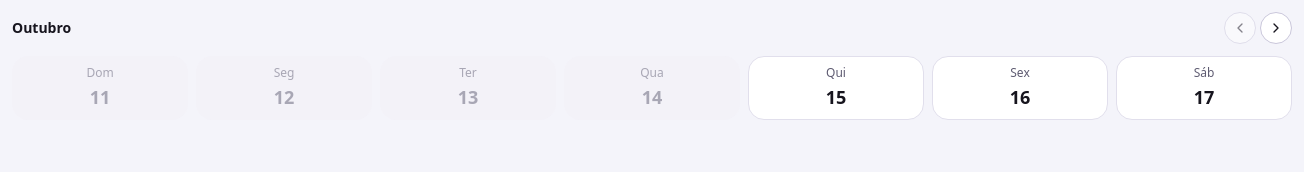
DayPicker › mostra uma semana por vez, sem rolagem, e troca de semana pelas setas
Expected: the button named "Semana anterior" is disabled, [1224,12,1256,44]
Expected: the button with aria-label "segunda-feira, 12 de outubro, indisponível" is disabled, [196,56,372,120]
Click the button named "Próxima semana" at (1276, 28), box [1260,12,1292,44]
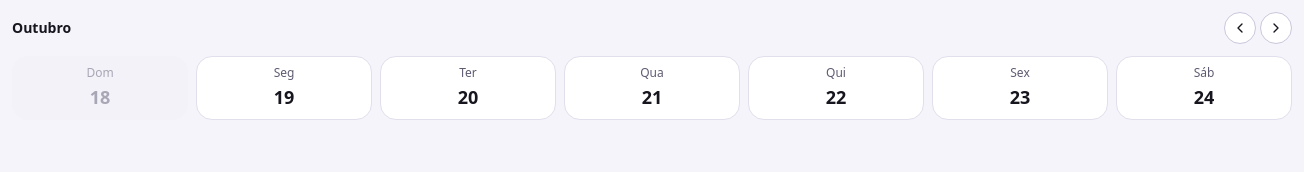
Expected: the button with aria-label "domingo, 18 de outubro, indisponível" is disabled, [12,56,188,120]
Now the button with aria-label "segunda-feira, 19 de outubro" is enabled, box [196,56,372,120]
